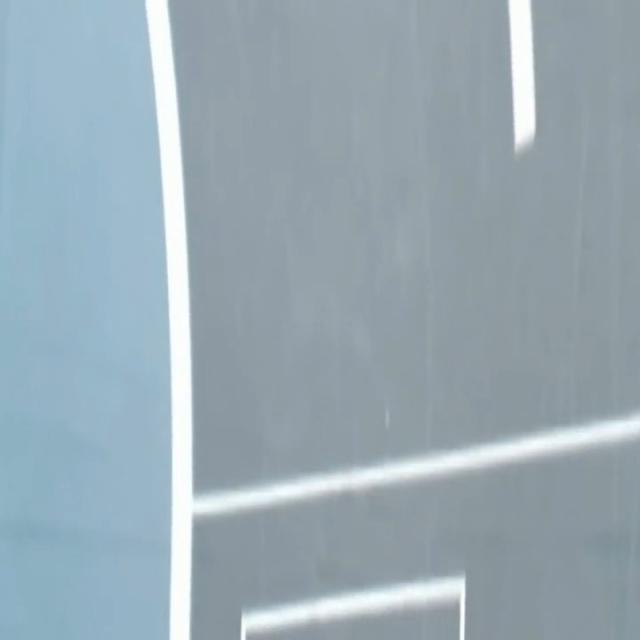center: (508, 0, 535, 155)
left: (145, 0, 193, 639)
